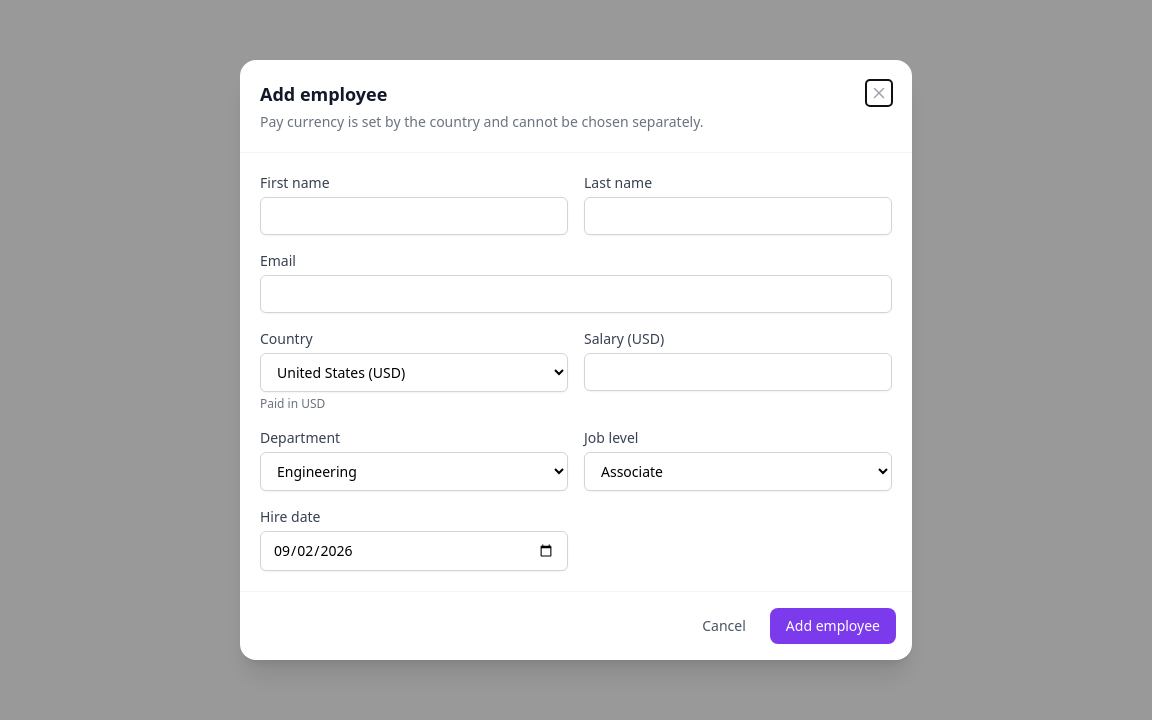
Test case: server errors › shows a duplicate email against the field, not in a toast to be remembered
The image size is (1152, 720).
Step 1. Type "Arun" into the field labelled "First name" → [414, 216], box x1=260 y1=197 x2=568 y2=235
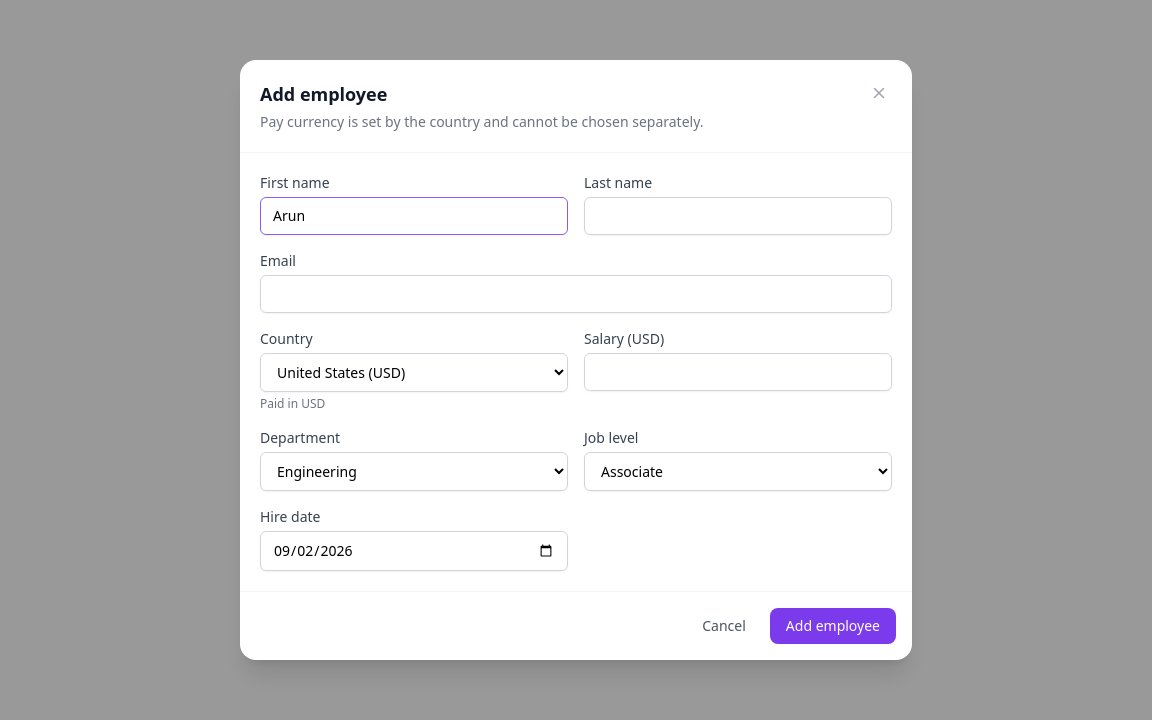
Step 2. Type "Nair" into the field labelled "Last name" → [738, 216], box x1=584 y1=197 x2=892 y2=235
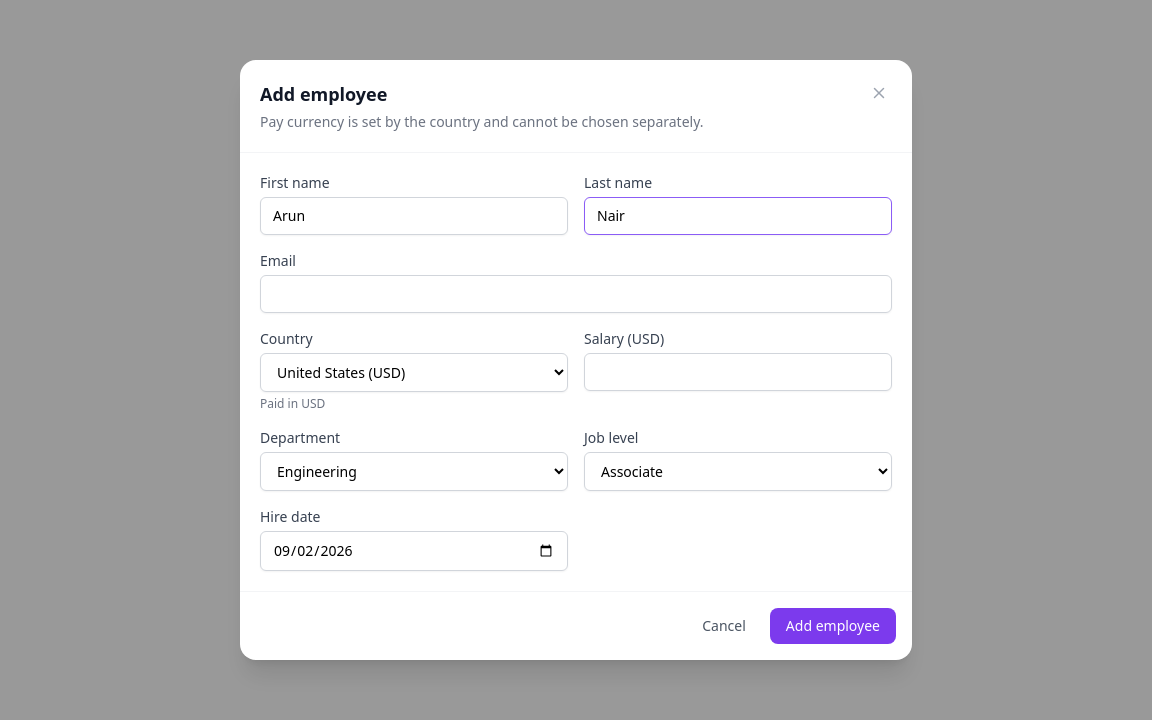
Step 3. Type "priya.raman@acme.example" into the field labelled "Email" → [576, 294], box x1=260 y1=275 x2=892 y2=313
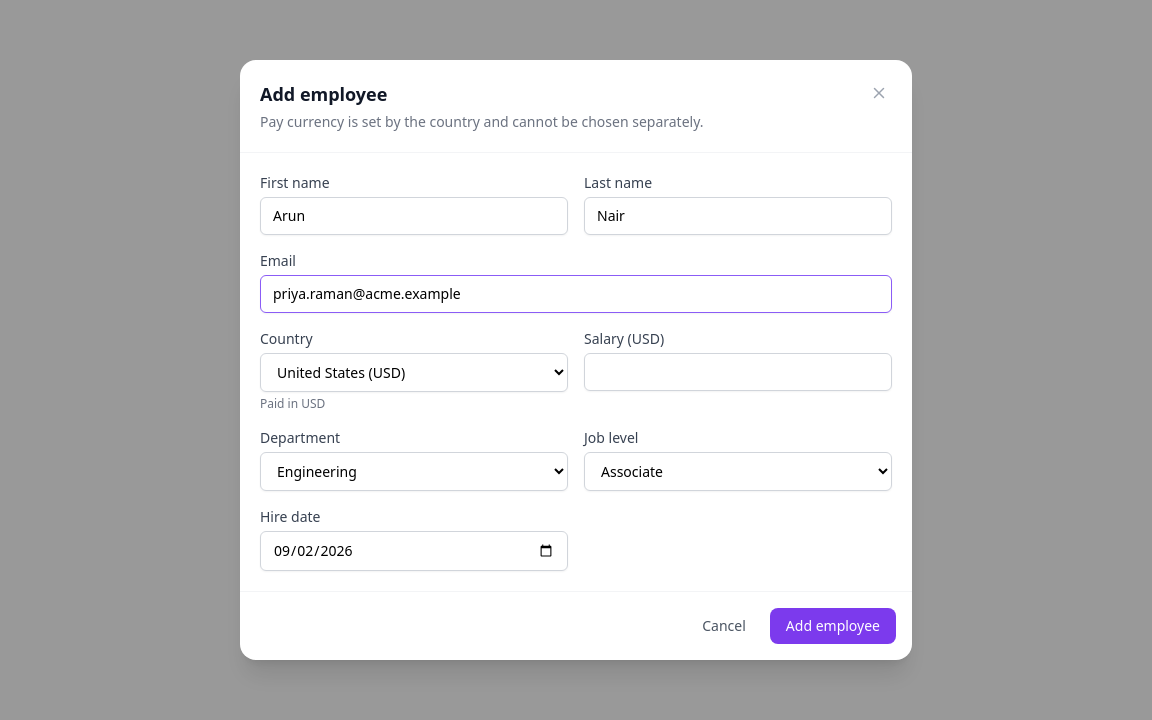
Step 4. Type "120000" into the field labelled "Salary (USD)" → [738, 372], box x1=584 y1=353 x2=892 y2=391
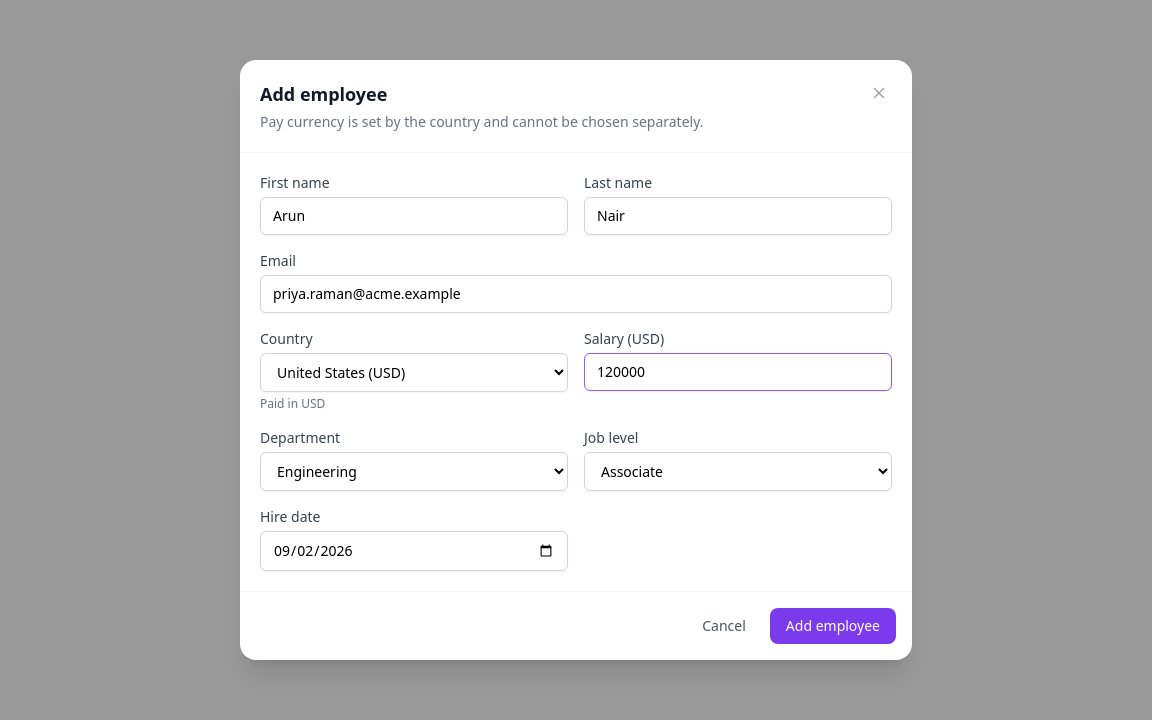
Step 5. Click the button "Add employee" → [833, 626], box x1=770 y1=608 x2=896 y2=644
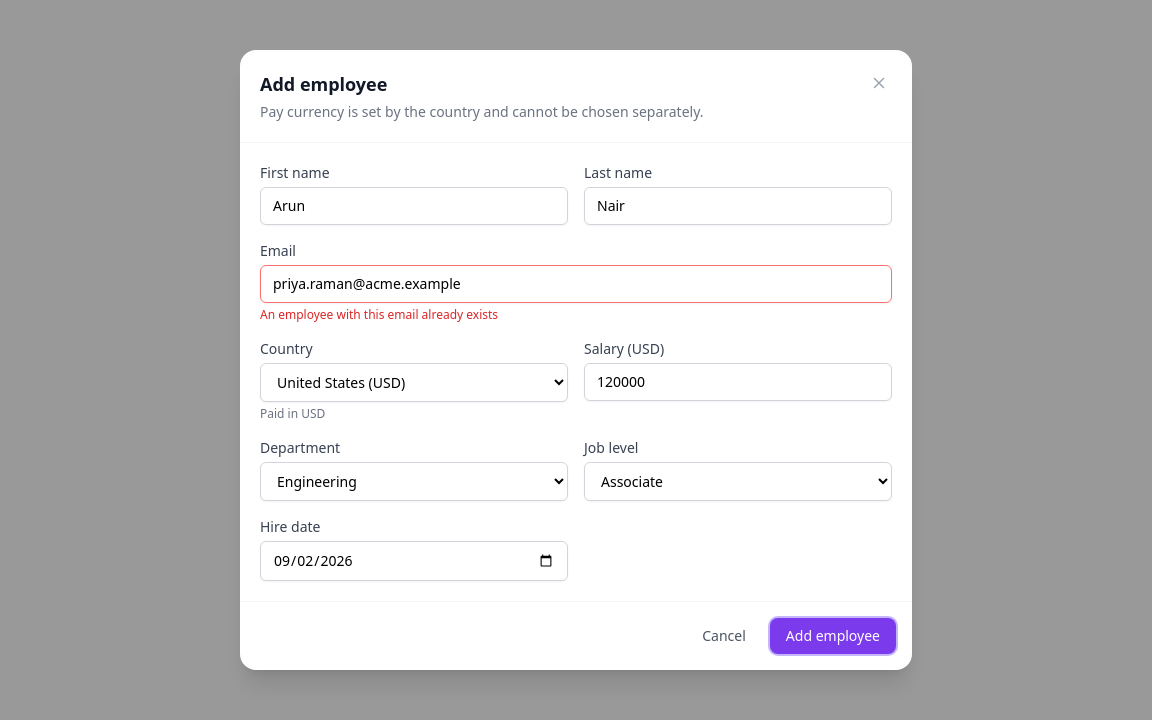
Check: the text "An employee with this email already exists" is shown, box x1=260 y1=306 x2=498 y2=323
